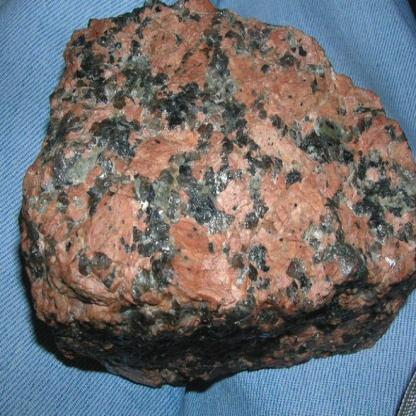Igneous_Granite: (17, 0, 415, 398)
